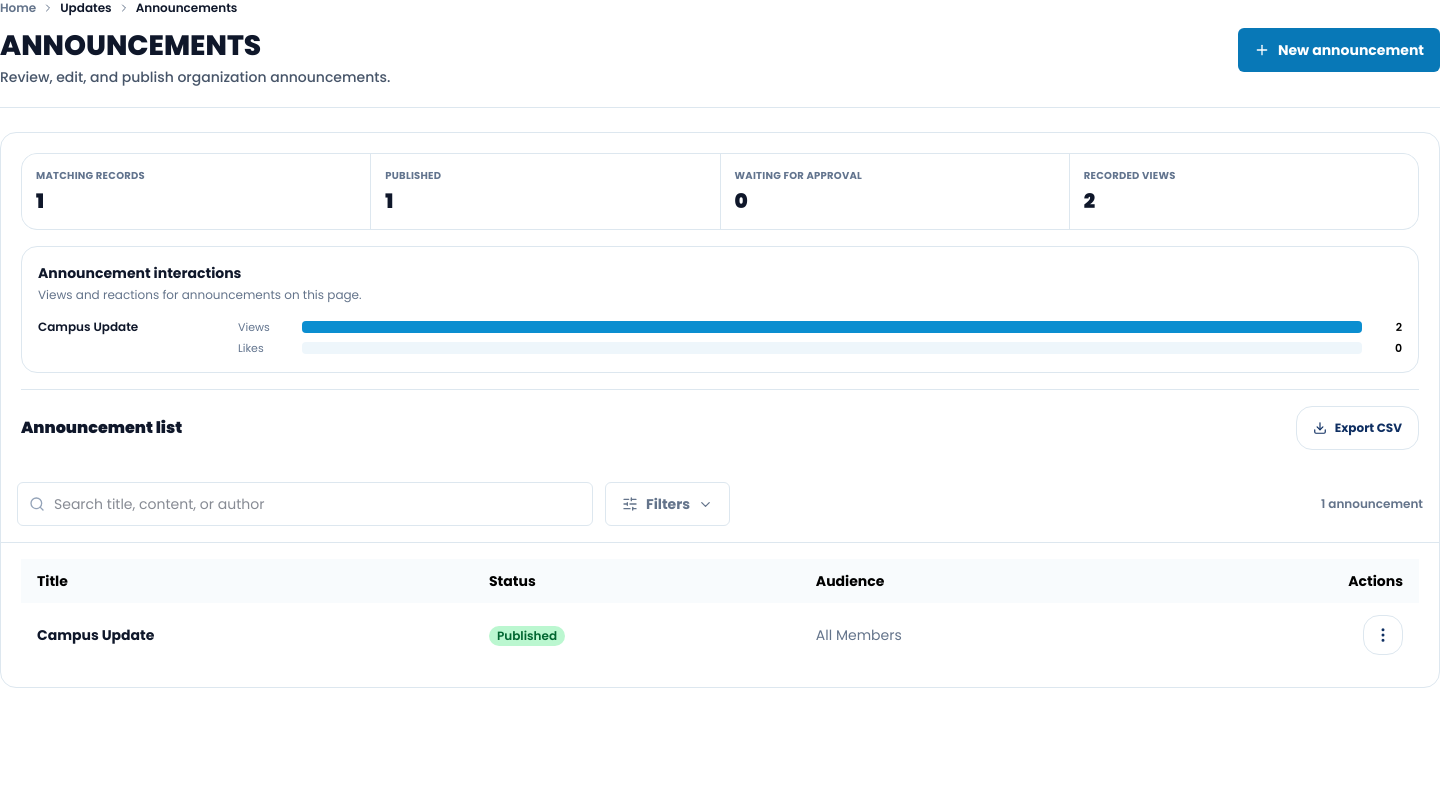
ManageAnnouncementsPage › expands a row to show announcement details and management actions
Click the button "Campus Update" at (96, 635), box x1=37 y1=615 x2=154 y2=655
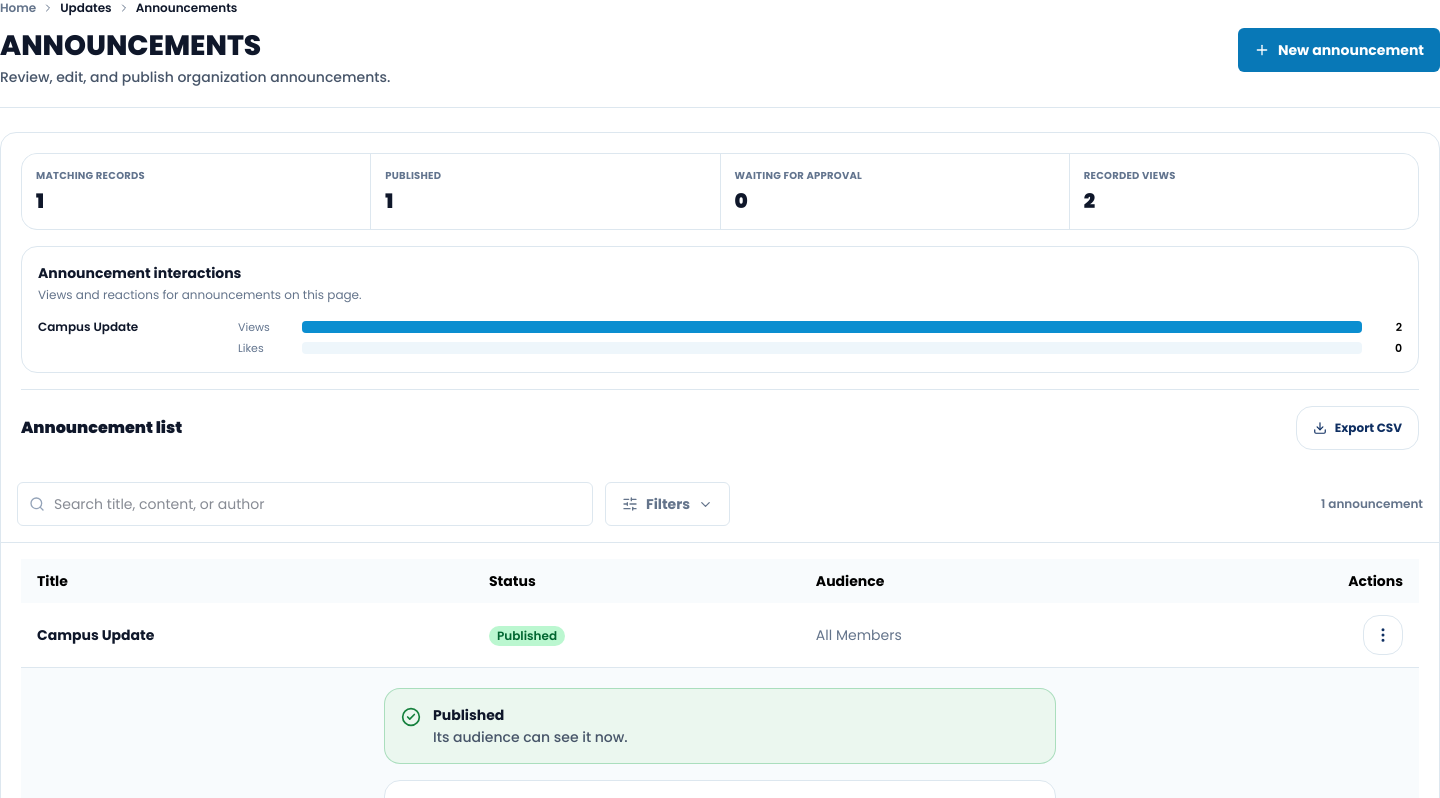
Click the button named "Actions for Campus update" at (1383, 635), box x1=1363 y1=615 x2=1403 y2=655
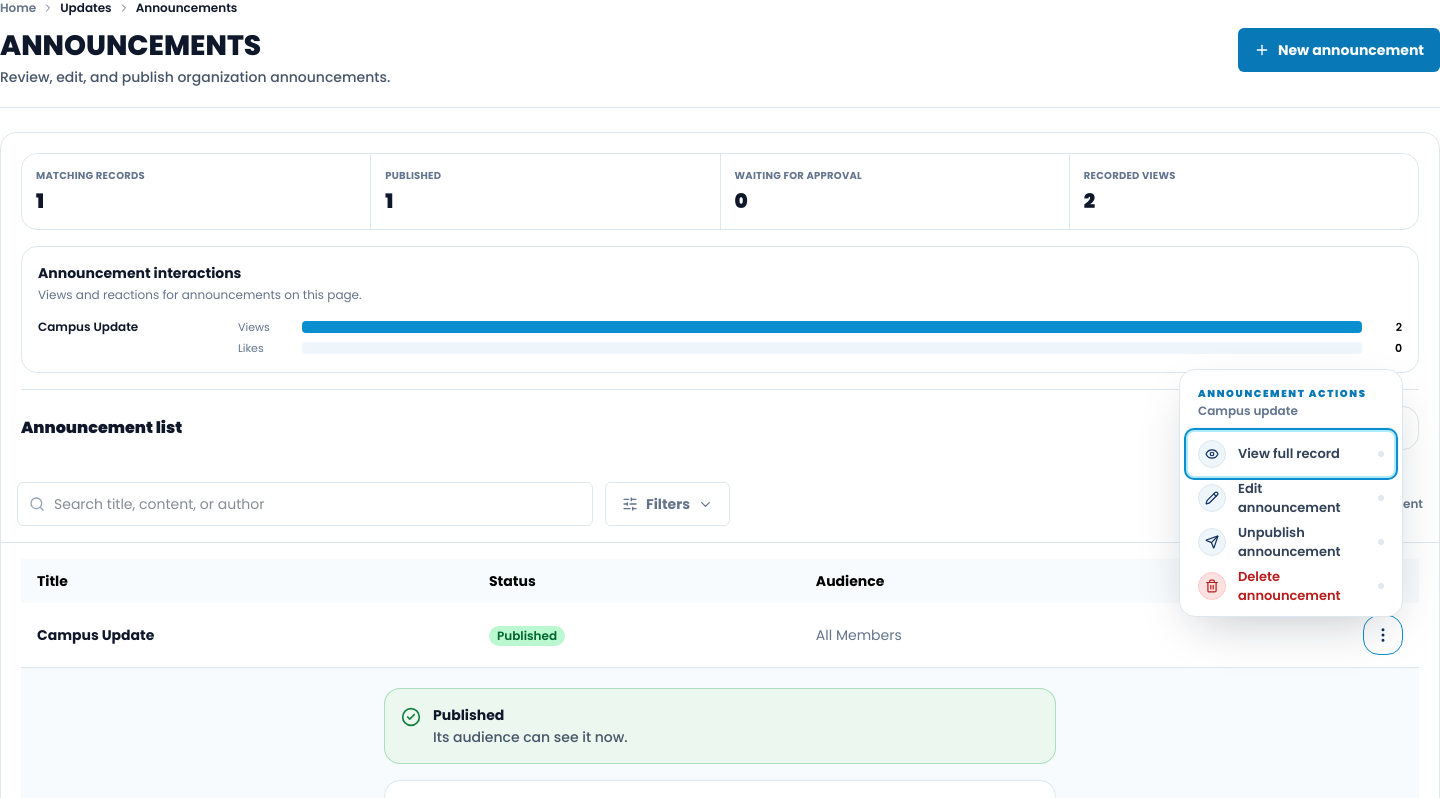
expect the menu item "Edit announcement" is shown: met, box x1=1188 y1=476 x2=1394 y2=520
expect the menu item "Delete announcement" is shown: met, box x1=1188 y1=564 x2=1394 y2=608
